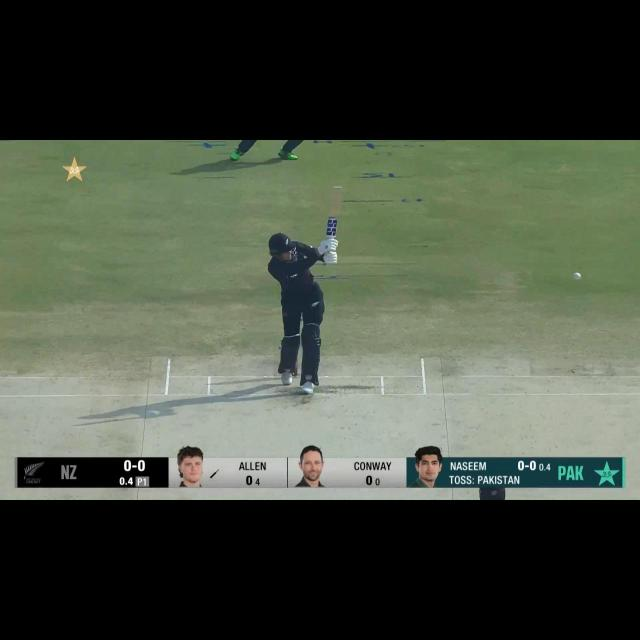bat: (324, 188, 344, 238)
toe: (324, 185, 343, 200)
